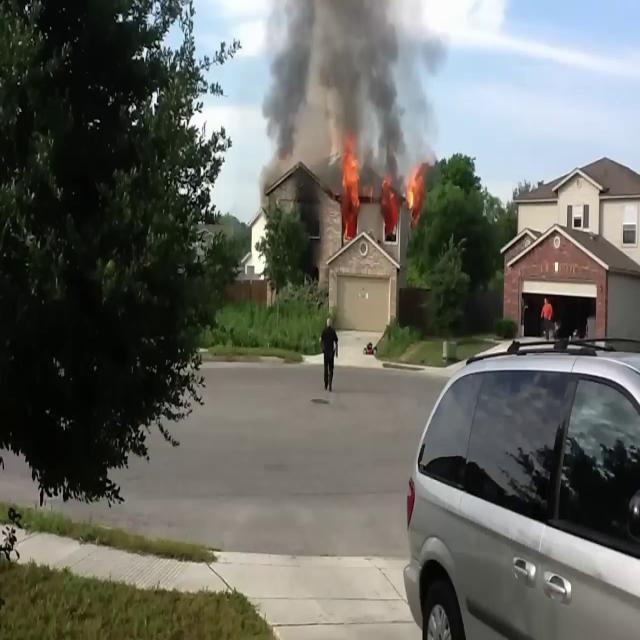Fire: (340, 140, 362, 240), (403, 165, 423, 218)
Smoke: (262, 0, 413, 180)
